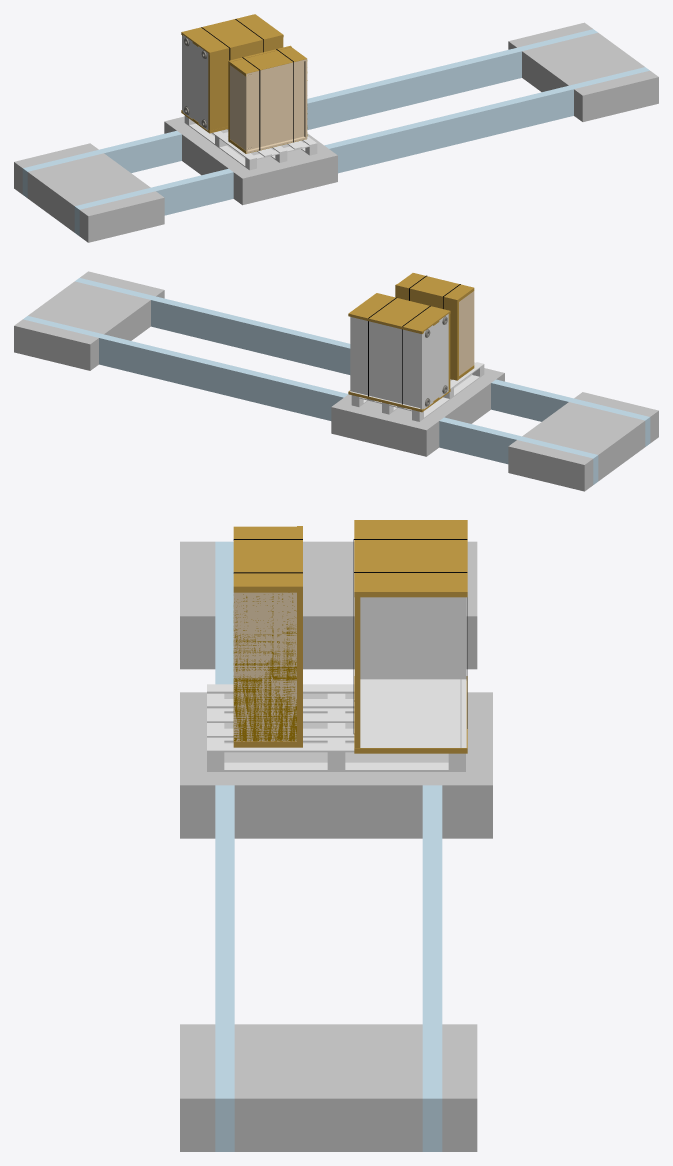
The model's file is Aiguilleur.glb.
3 views of the same model, one above another, from view 1: azimuth 30°, elevation 25°; view 2: azimuth 150°, elevation 25°; view 3: azimuth 270°, elevation 25° (orthographic). The views are drawn at different scales.
Visible parts, largest first — view 1: Part 4__Part 4 (×2), Part 13__Part 13 (×2), Part 1 (×2), Part 1__Part 1, Part 11__Part 11 (×2), Part 12__Part 12 (×2), Part 3 (×2), Part 4, Part 10__Part 10 (×2), Part 2; view 2: Part 4__Part 4 (×2), Part 13__Part 13 (×2), Part 1 (×2), Part 1__Part 1, Part 10__Part 10 (×2), Part 12__Part 12 (×2), Part 4 (×3), Part 11__Part 11 (×2), Part 2, Part 3; view 3: Part 13__Part 13 (×2), Part 1__Part 1, Part 1 (×2), Part 4__Part 4 (×2), Part 2 (×2), Part 4 (×3), Part 11__Part 11 (×2), Part 10__Part 10 (×2), Part 3 (×2), Part 12__Part 12.
Boxes of the visible parts, box(x1,y1,x2,y2) form: Part 4__Part 4 (×2): box(307, 29, 649, 173); Part 13__Part 13 (×2): box(27, 32, 644, 232); Part 1 (×2): box(182, 35, 307, 153); Part 1__Part 1: box(164, 116, 337, 205); Part 11__Part 11 (×2): box(79, 70, 658, 242); Part 12__Part 12 (×2): box(22, 130, 233, 236); Part 3 (×2): box(208, 37, 306, 130); Part 4: box(181, 14, 283, 55); Part 10__Part 10 (×2): box(14, 22, 592, 194); Part 2: box(184, 115, 317, 170); Part 4__Part 4 (×2): box(23, 278, 350, 420); Part 13__Part 13 (×2): box(28, 281, 645, 481); Part 1 (×2): box(350, 291, 474, 409); Part 1__Part 1: box(331, 368, 504, 456); Part 10__Part 10 (×2): box(14, 319, 593, 491); Part 12__Part 12 (×2): box(439, 379, 650, 484); Part 4 (×3): box(348, 284, 458, 412); Part 11__Part 11 (×2): box(80, 271, 658, 443); Part 2: box(351, 362, 484, 421); Part 3: box(398, 273, 474, 301); Part 13__Part 13 (×2): box(234, 541, 422, 1151); Part 1__Part 1: box(180, 692, 492, 838); Part 1 (×2): box(233, 592, 466, 747); Part 4__Part 4 (×2): box(215, 785, 442, 1151); Part 2 (×2): box(207, 593, 465, 771); Part 4 (×3): box(297, 520, 467, 753); Part 11__Part 11 (×2): box(180, 541, 215, 1151); Part 10__Part 10 (×2): box(442, 541, 477, 1151); Part 3 (×2): box(233, 526, 360, 747); Part 12__Part 12: box(215, 541, 233, 684).
Size of the model in its own units: 6.73 by 1.33 by 1.6.
